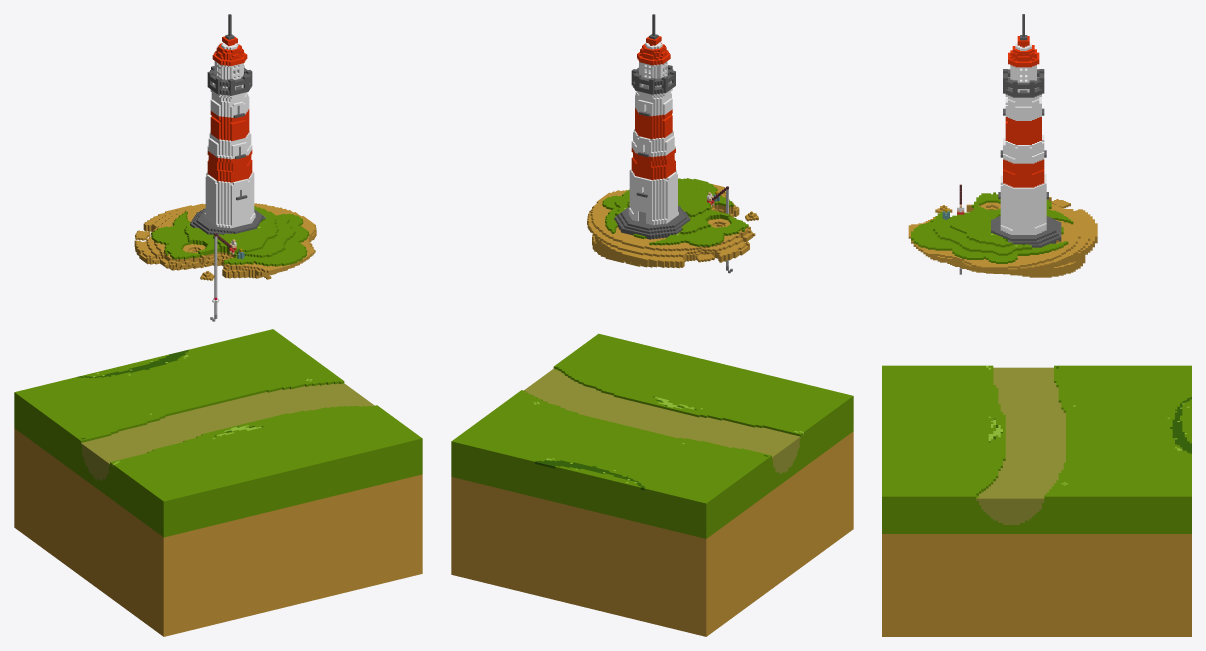
3 views of the same model, side by side, from view 1: azimuth 30°, elevation 25°; view 2: azimuth 150°, elevation 25°; view 3: azimuth 270°, elevation 25° (orthographic). The views are drawn at different scales.
Parts seen in each view (by area): view 1: 8D; view 2: 8D; view 3: 8D.
Part boxes in pixels (x1,y1,x2,y2): 8D: [14, 14, 422, 636]; 8D: [451, 14, 853, 636]; 8D: [882, 14, 1191, 636].
Size of the model in its own units: 12.8 by 25.5 by 12.8.
Materials: 1 (1 with a texture image).
